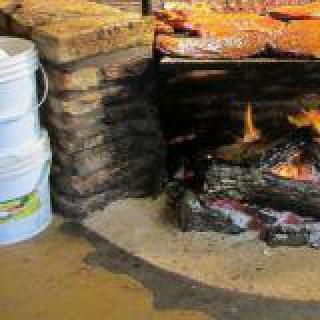fire: (220, 102, 320, 164)
